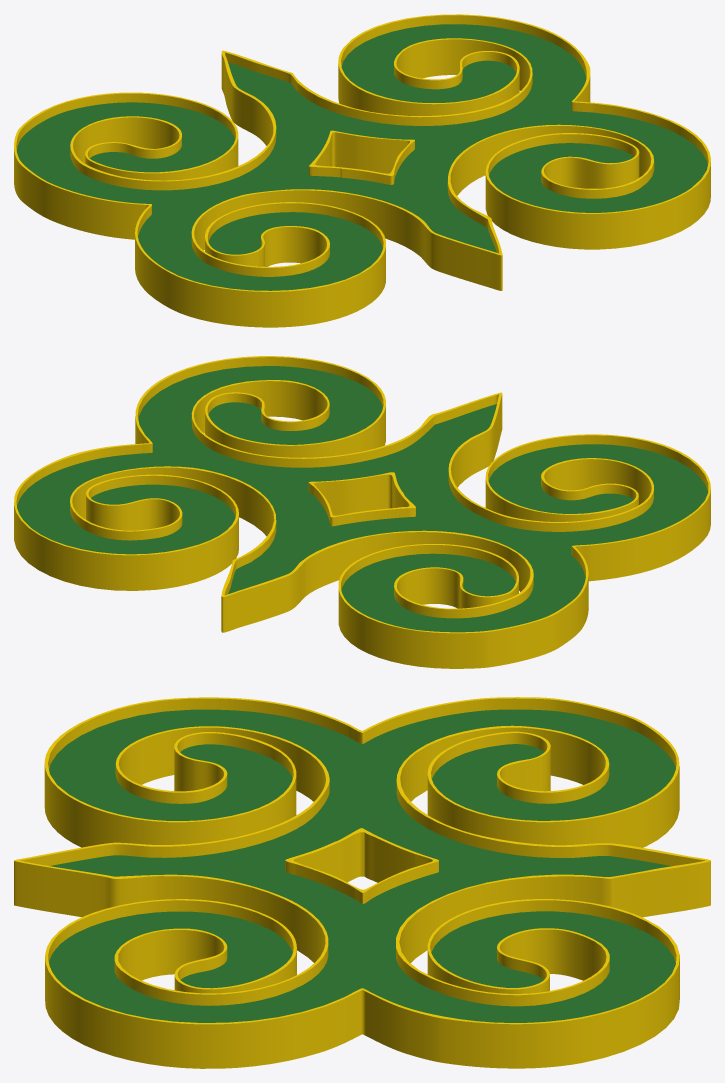
The model's file is green.glb.
3 views of the same model, one above another, from view 1: azimuth 30°, elevation 25°; view 2: azimuth 150°, elevation 25°; view 3: azimuth 270°, elevation 25° (orthographic). The views are drawn at different scales.
Parts seen in each view (by area): view 1: GREENGOLD, GREEN, GREENGOLD1; view 2: GREENGOLD, GREEN, GREENGOLD1; view 3: GREENGOLD, GREEN, GREENGOLD1.
Boxes of the visible parts, bbox=[...] form: GREENGOLD: bbox=[14, 14, 710, 327]; GREEN: bbox=[16, 24, 707, 290]; GREENGOLD1: bbox=[308, 130, 414, 184]; GREENGOLD: bbox=[14, 356, 710, 668]; GREEN: bbox=[17, 366, 708, 632]; GREENGOLD1: bbox=[308, 472, 415, 526]; GREENGOLD: bbox=[14, 697, 710, 1068]; GREEN: bbox=[49, 709, 675, 1022]; GREENGOLD1: bbox=[285, 828, 438, 903].
Size of the model in its own units: 0.9931 by 0.0628 by 0.8937.
